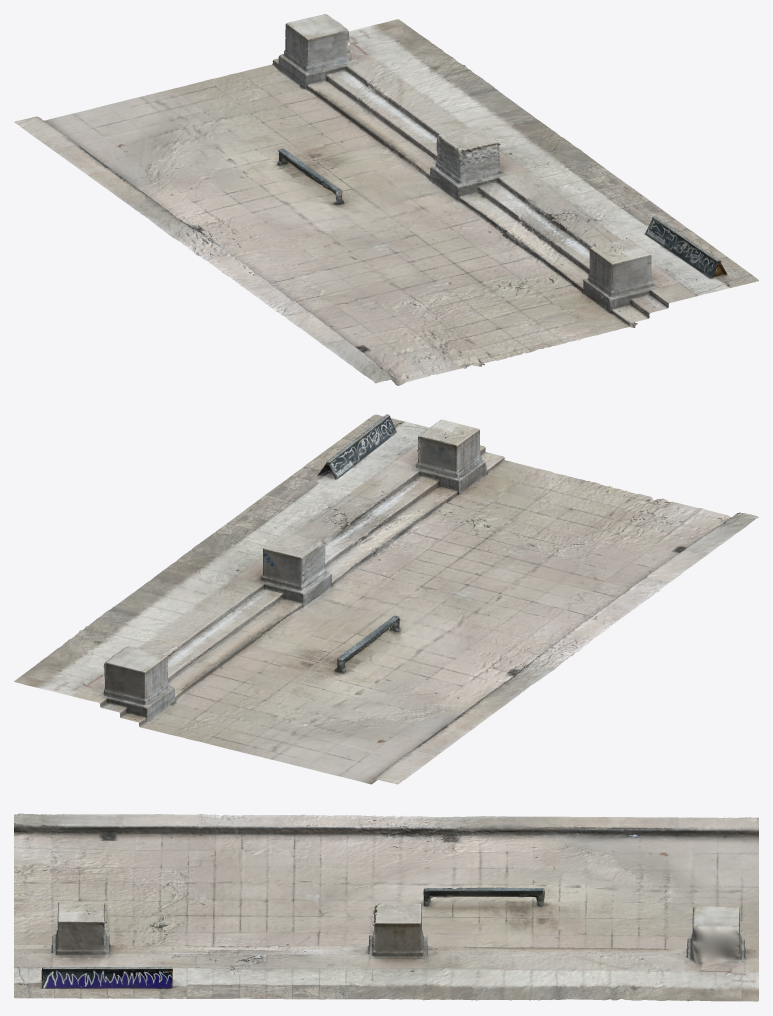
Rendered from S037_PalaisdeTokyoDIY.glb.
3 views of the same model, one above another, from view 1: azimuth 30°, elevation 25°; view 2: azimuth 150°, elevation 25°; view 3: azimuth 270°, elevation 25° (orthographic). The views are drawn at different scales.
Size of the model in its own units: 8.77 by 1.22 by 14.29.
Materials: 1 (1 with a texture image).
